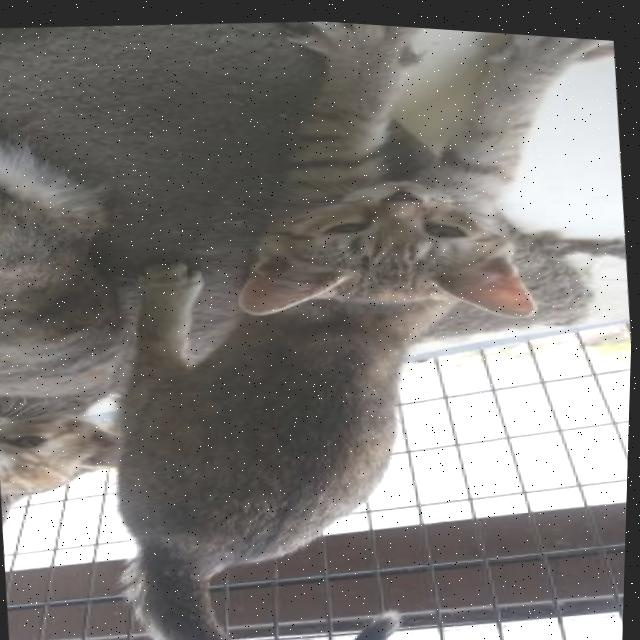Abyssinian: (43, 3, 640, 640)
